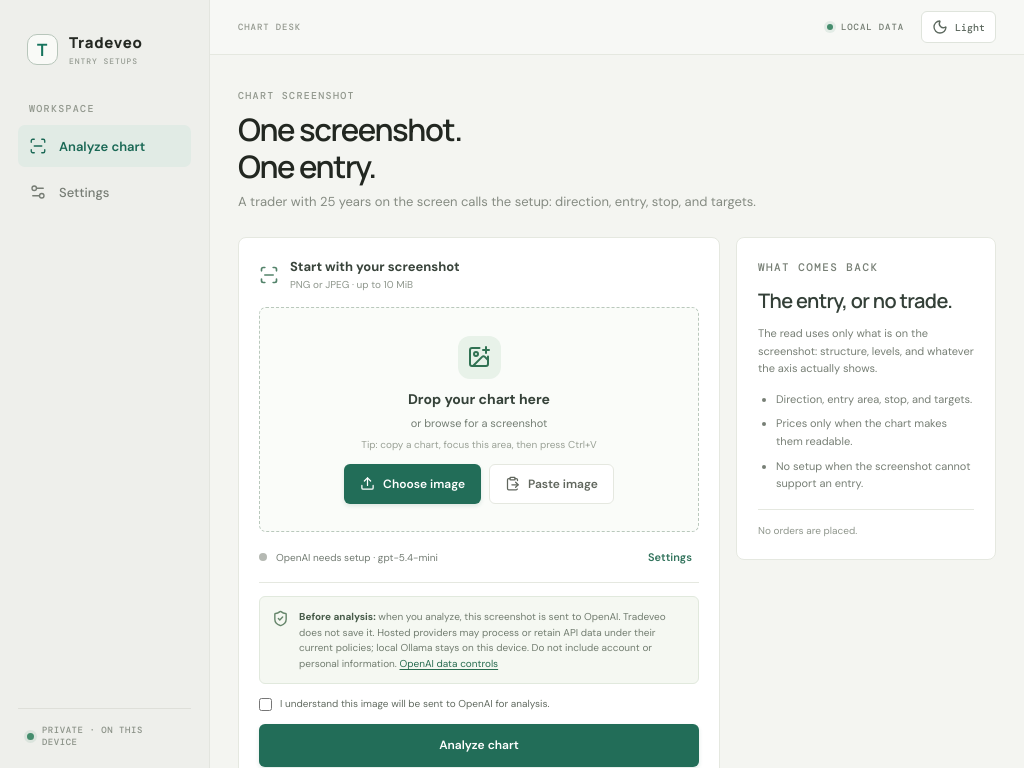
Tradeveo chart desk › opens provider settings from navigation
The image size is (1024, 768).
Click the link "Settings" at (69, 192), box [29, 183, 110, 201]
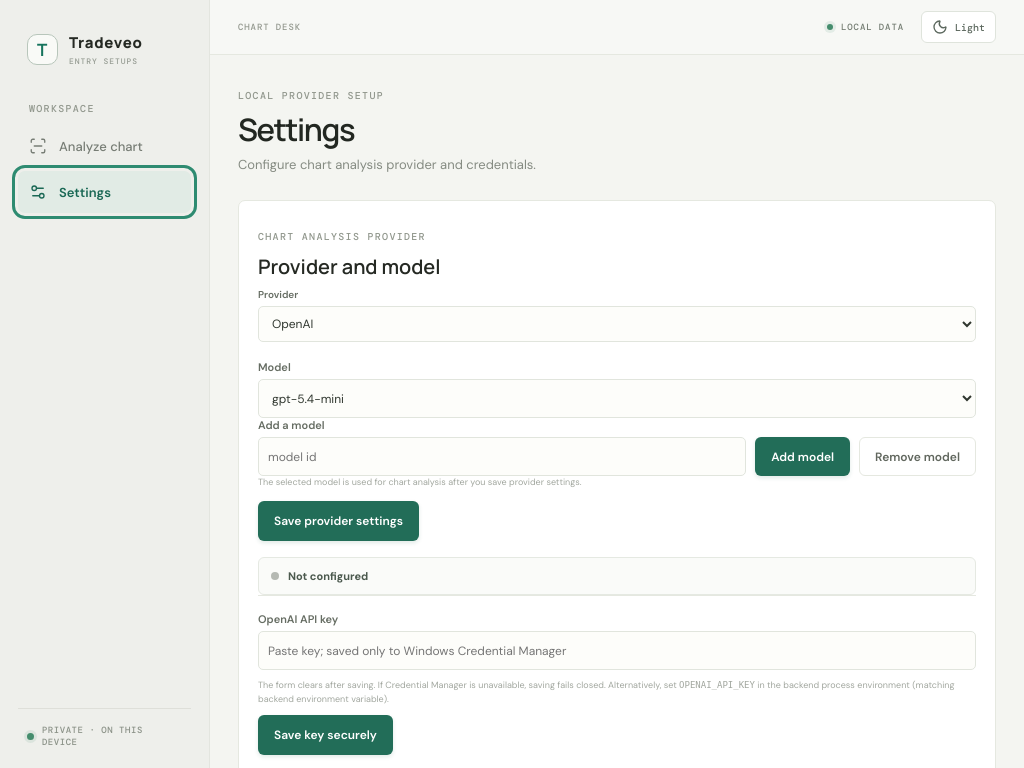
expect the heading "Provider and model" is shown: met, box [258, 253, 441, 280]
